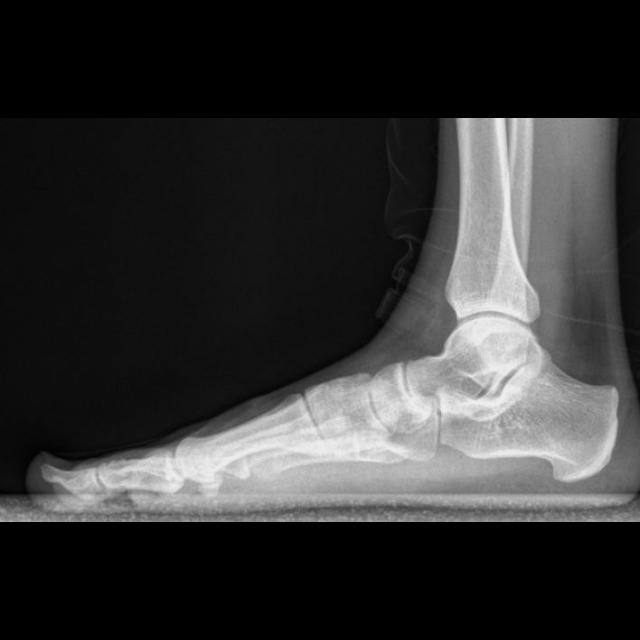a: (434, 357, 617, 484)
b: (369, 361, 433, 434)
c: (175, 393, 326, 485)
